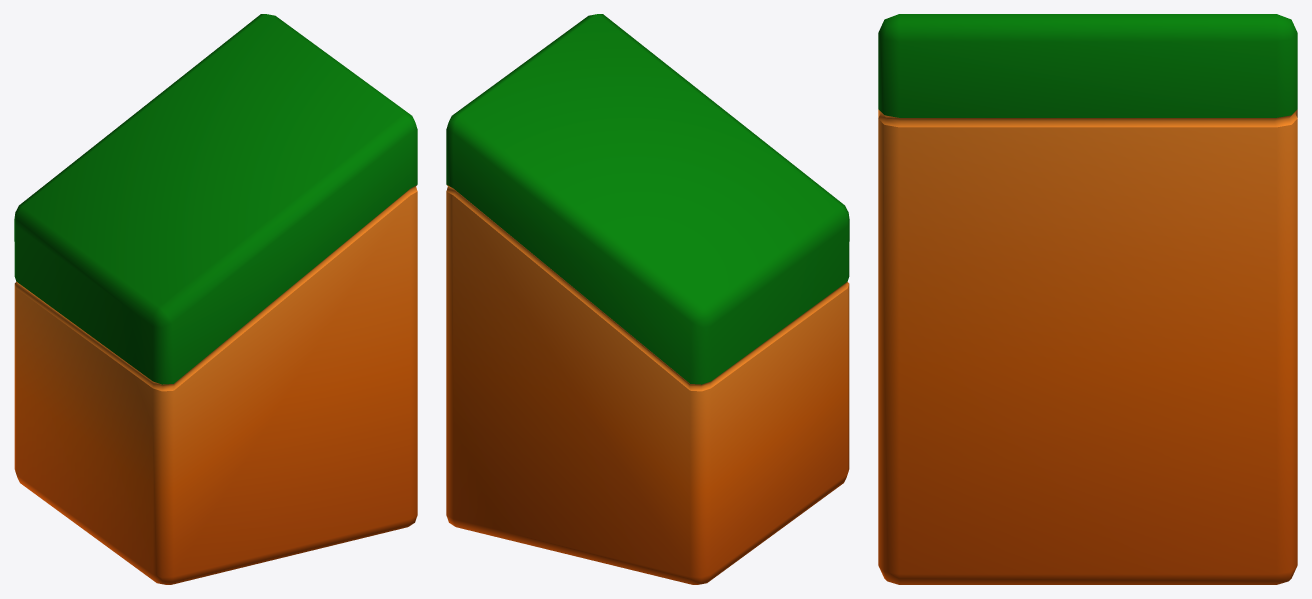
File: 3D_Tile_Ground_01x1_5v02.fbx
3 renders of one model, left to right at view 1: azimuth 30°, elevation 25°; view 2: azimuth 150°, elevation 25°; view 3: azimuth 270°, elevation 25°, orthographic. The views are drawn at different scales.
Parts seen in each view (by area): view 1: 3D_Tile_Ground_01x1.5v02; view 2: 3D_Tile_Ground_01x1.5v02; view 3: 3D_Tile_Ground_01x1.5v02.
Part boxes in pixels (<box>): 3D_Tile_Ground_01x1.5v02: <box>14,14,417,584</box>; 3D_Tile_Ground_01x1.5v02: <box>446,14,849,584</box>; 3D_Tile_Ground_01x1.5v02: <box>878,14,1297,584</box>.
Bounding box in the file's own units: 200 × 300 × 200.
